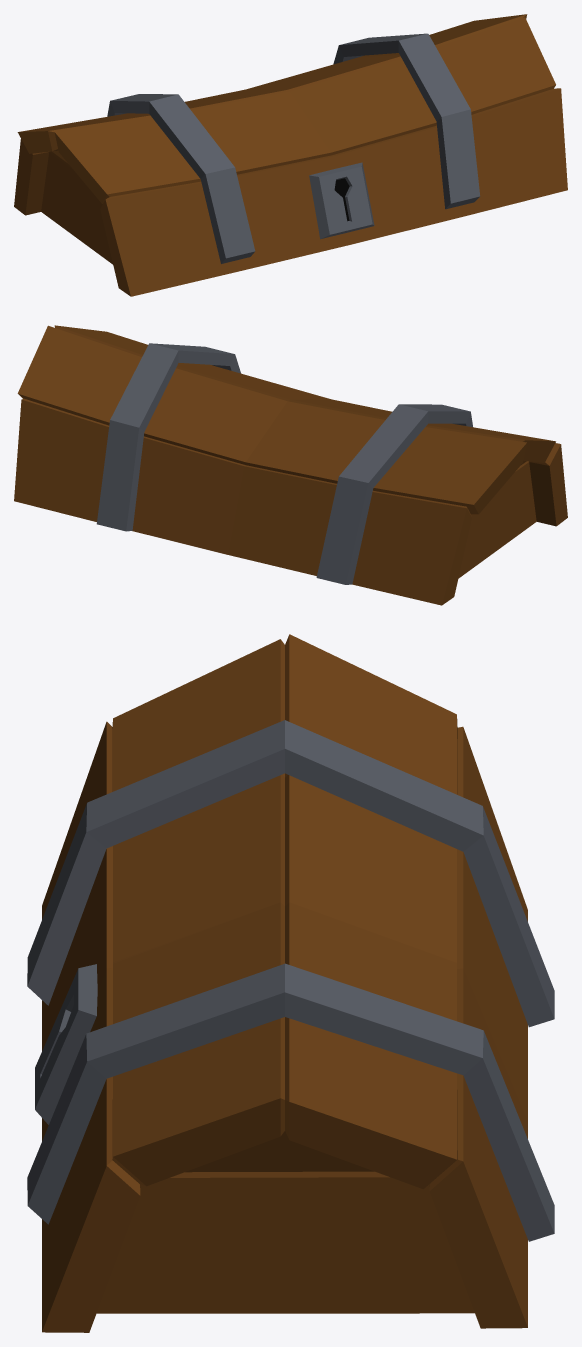
File: ChestLid.fbx
3 views of the same model, one above another, from view 1: azimuth 30°, elevation 25°; view 2: azimuth 150°, elevation 25°; view 3: azimuth 270°, elevation 25° (orthographic). The views are drawn at different scales.
Parts seen in each view (by area): view 1: ChestLid; view 2: ChestLid; view 3: ChestLid.
Part boxes in pixels (<box>): ChestLid: <box>14,14,567,296</box>; ChestLid: <box>14,325,567,605</box>; ChestLid: <box>27,634,554,1332</box>.
Bounding box in the file's own units: 97.59 × 25.9 × 46.48.
